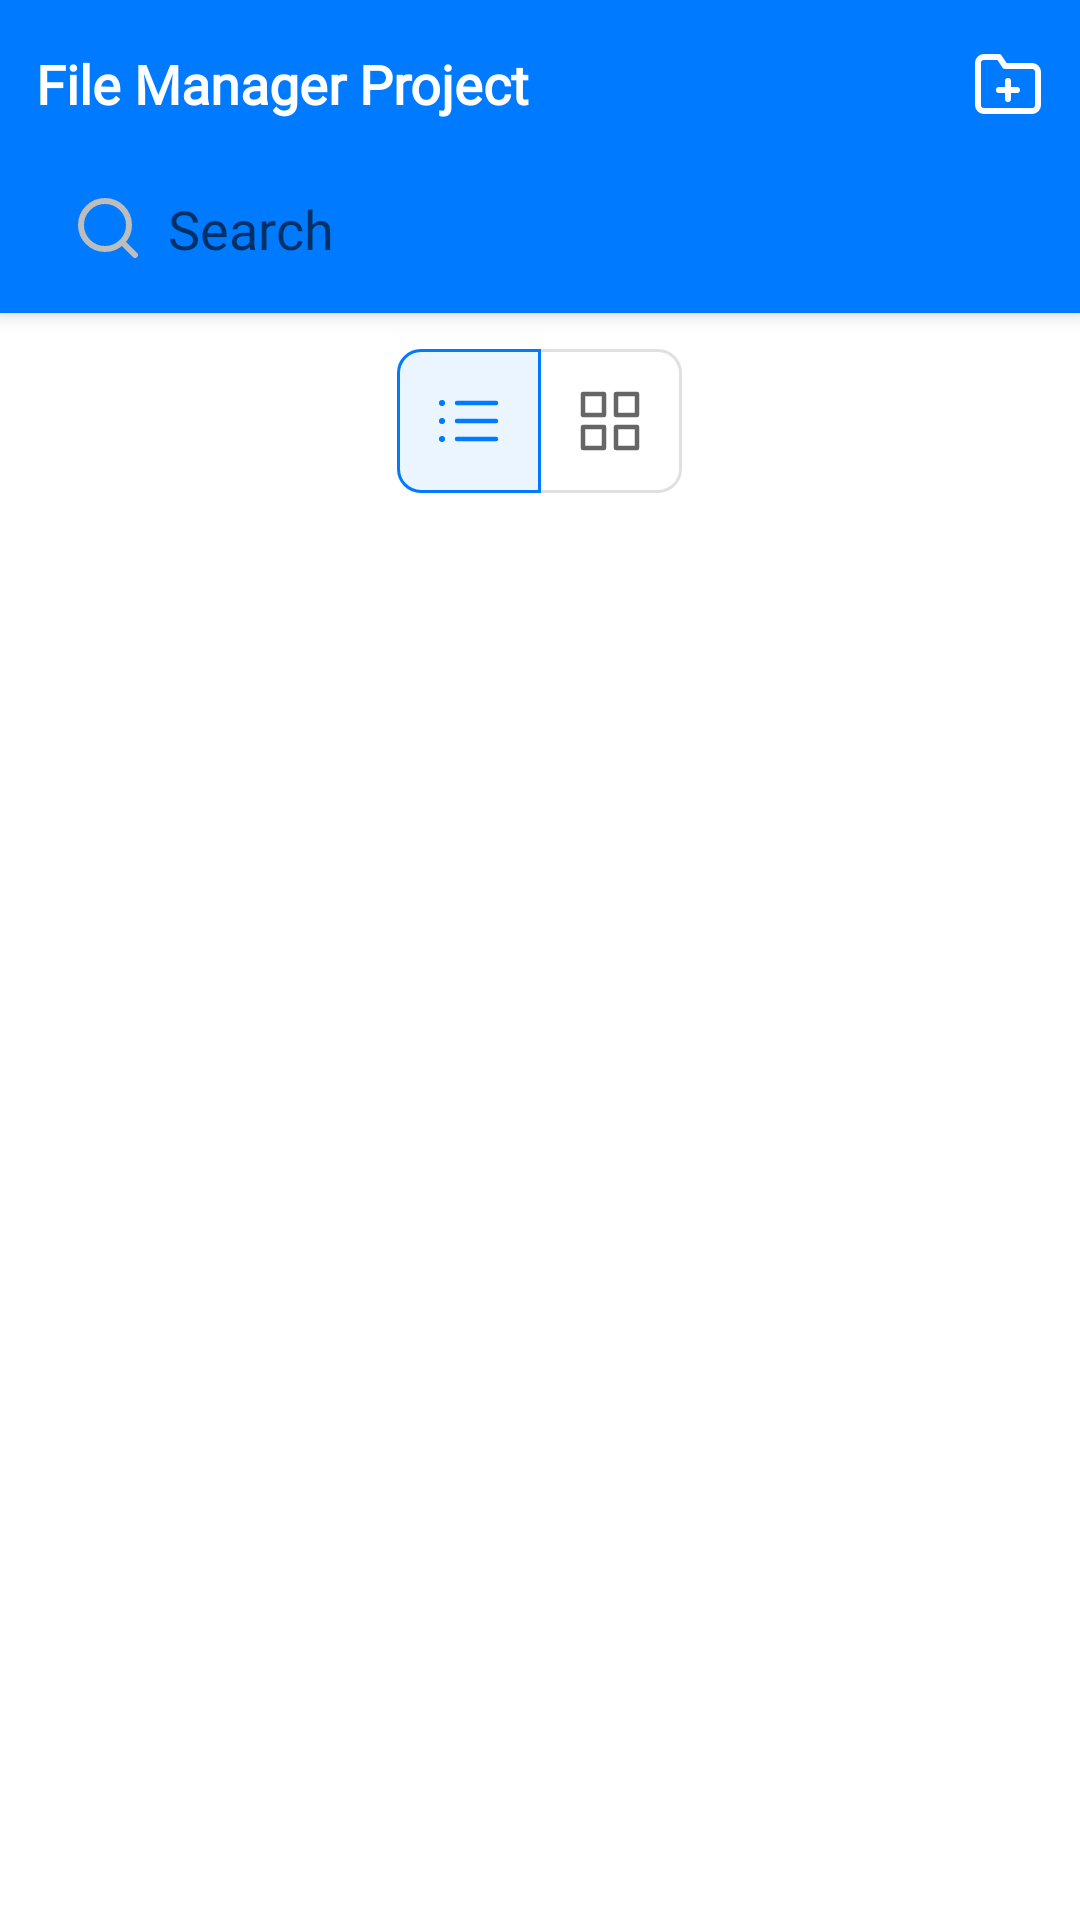

Icons on this 1080*1920 Android screen, each with the point to tap as (x,y):
add folder: (1008,84)
grid: (610,421)
list: (469,421)
